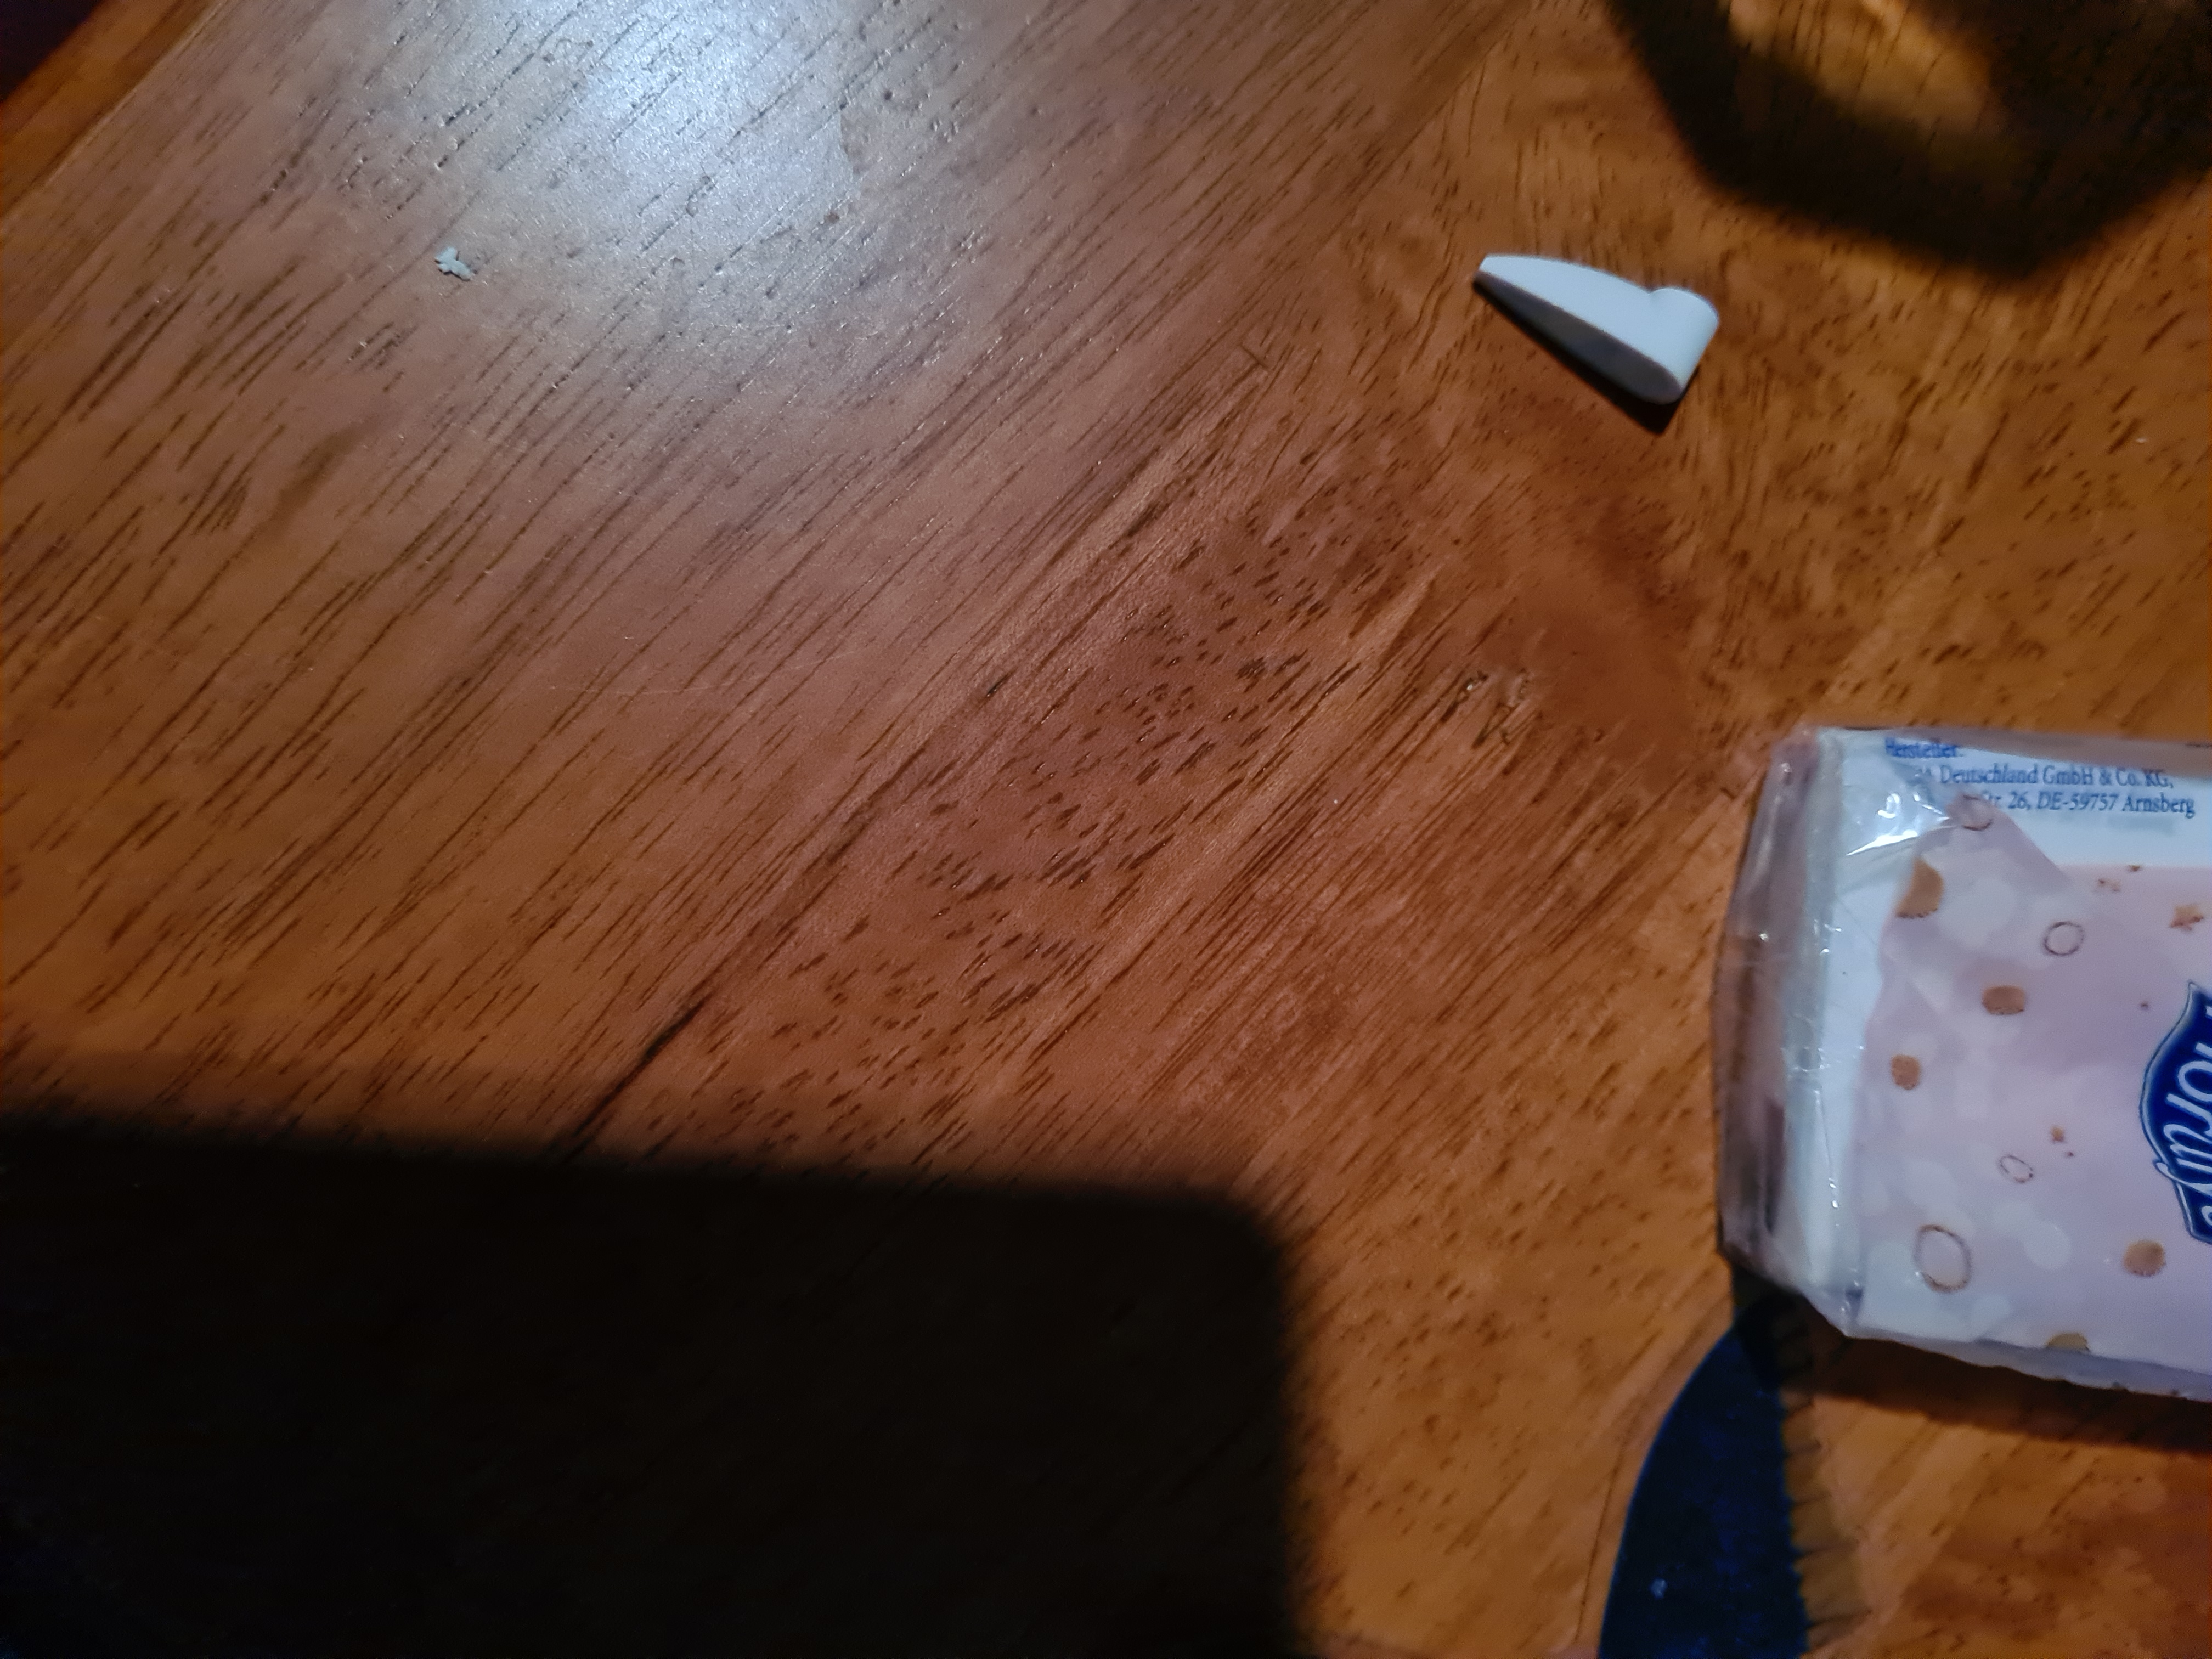Kappe: (1461, 213, 1731, 450)
